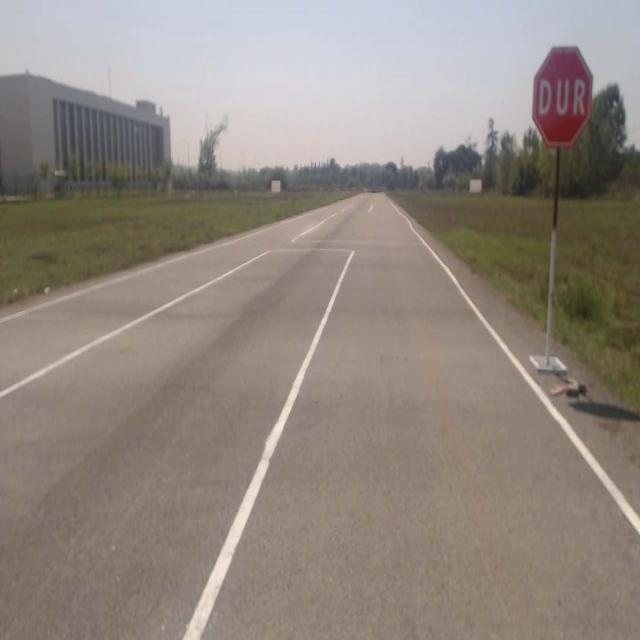dur: (532, 46, 592, 147)
